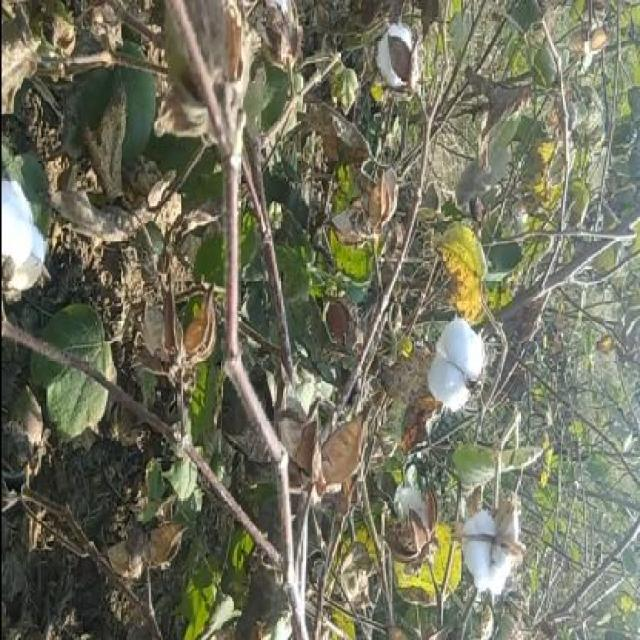cotton_ready: (442, 465, 528, 606), (414, 302, 484, 438), (356, 19, 424, 113), (4, 160, 47, 302)
